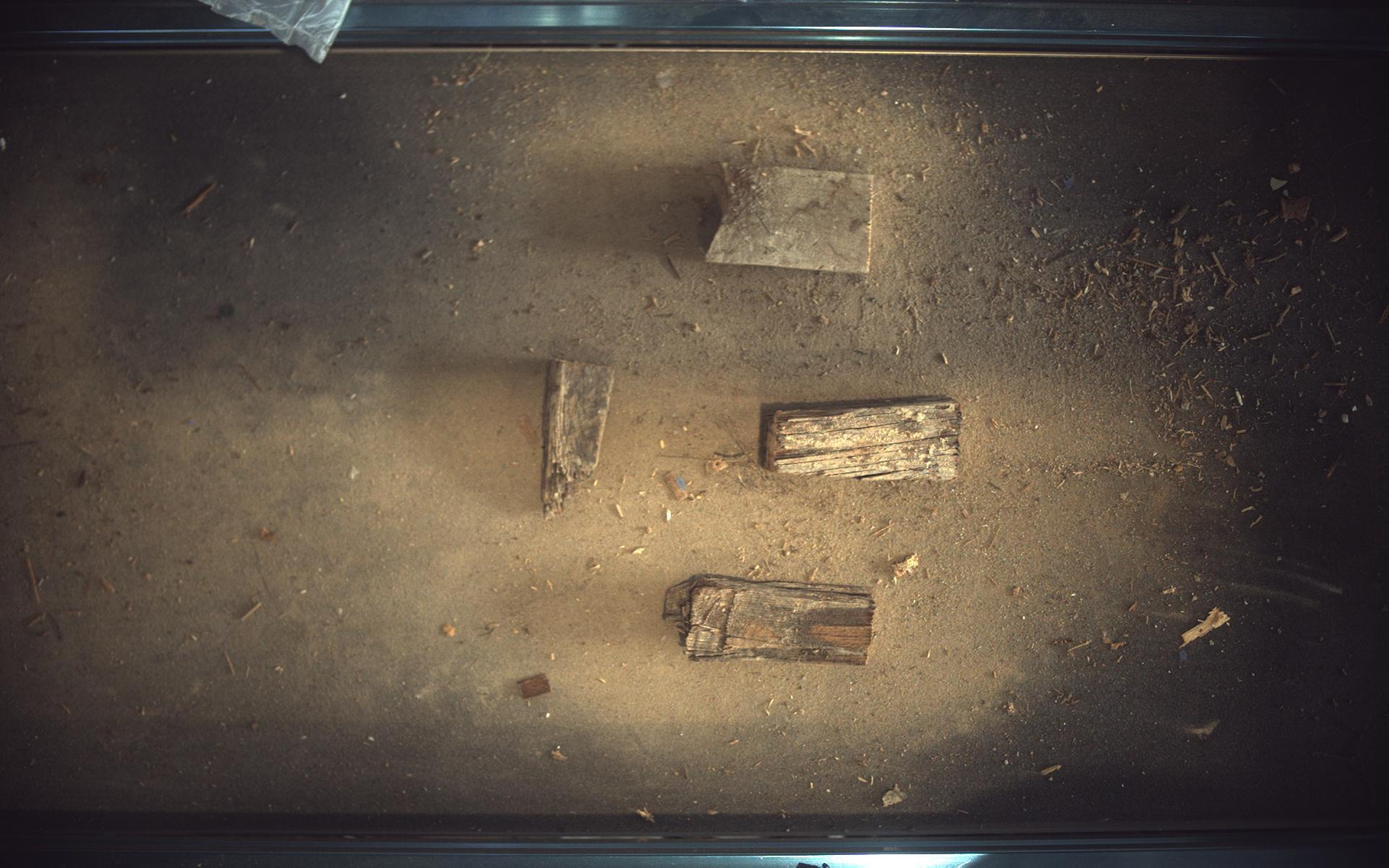wood: (664, 575, 877, 665), (708, 165, 875, 273), (762, 396, 964, 481), (542, 359, 614, 519)
